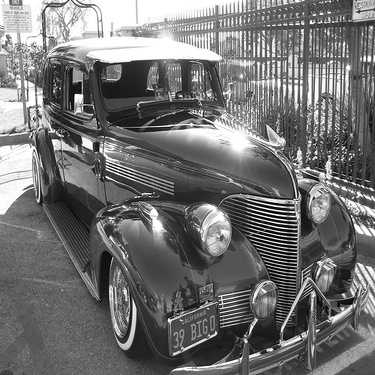car: (34, 32, 365, 368)
